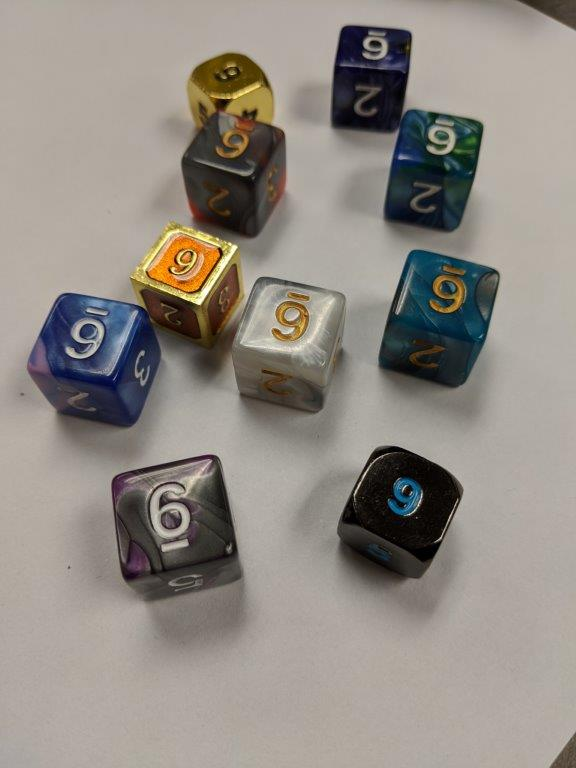d6-6: (111, 453, 244, 606), (375, 246, 502, 391), (26, 291, 160, 426), (333, 445, 463, 580), (233, 276, 343, 414), (129, 222, 245, 349), (180, 113, 290, 235), (381, 108, 485, 232), (331, 23, 411, 135), (186, 49, 276, 127)
